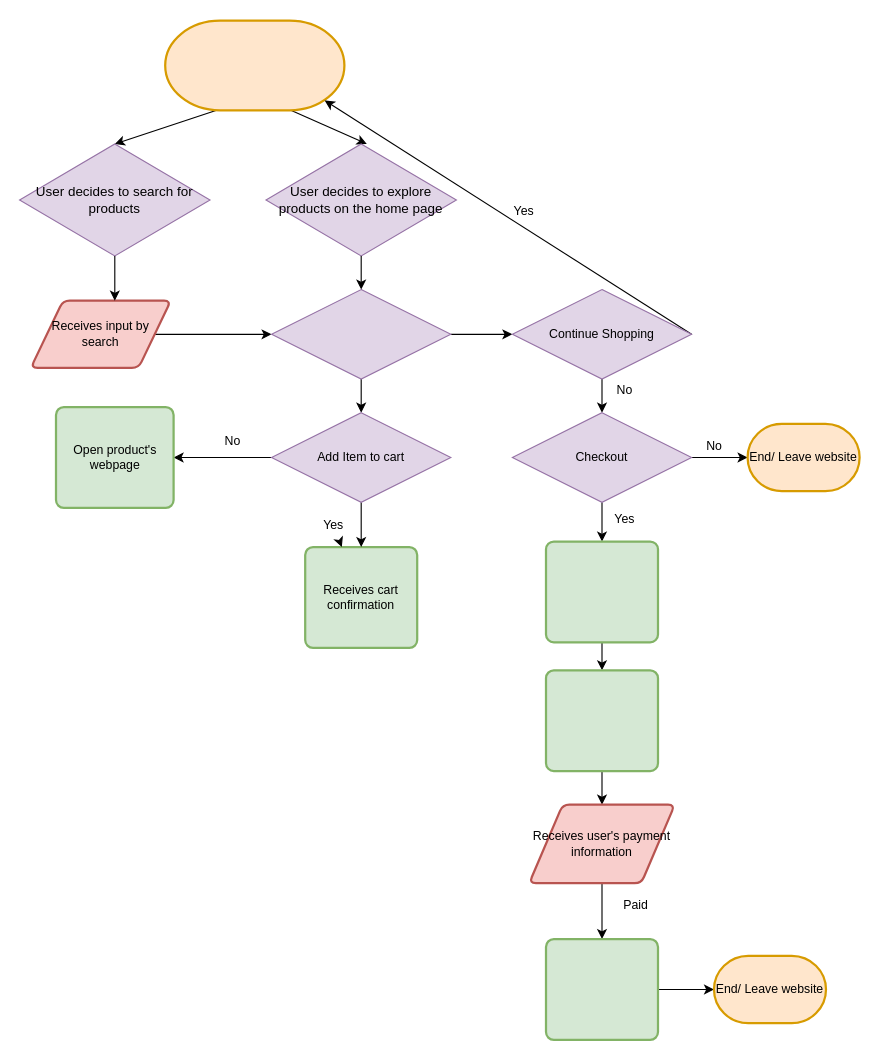
Image size: 880x1060. Some labels were removed from this diagram. The shapes that lost their labels are listed below. From the top down, each one's box as (x1, y1, x2, y2) in pixels, then its label:
(164, 19, 345, 111): Start / Enter Website
(270, 288, 451, 379): View a specific procut
(544, 540, 659, 643): View Cart Screen
(544, 669, 659, 772): View Payment Screen
(544, 937, 659, 1040): Order confirmations screen, send confirmation email
